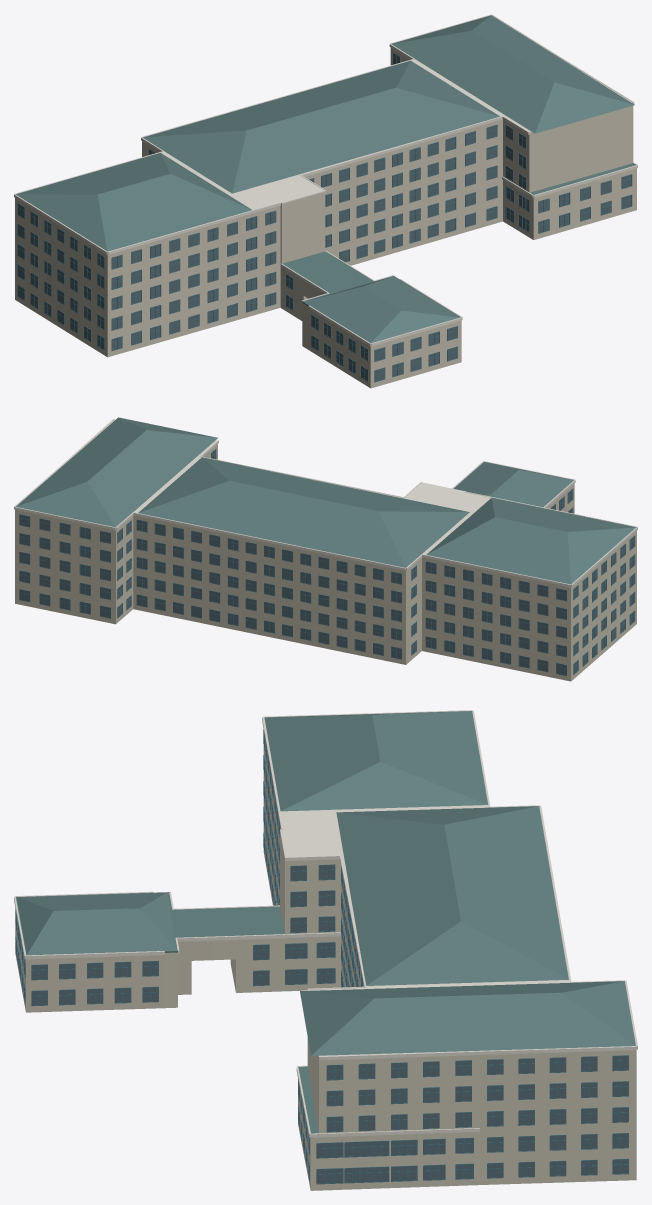
The model's file is SEU_building_patch_v08.glb.
The picture shows the model from 3 angles, top to bottom: view 1: azimuth 30°, elevation 25°; view 2: azimuth 150°, elevation 25°; view 3: azimuth 270°, elevation 25°; orthographic projection. The views are drawn at different scales.
Parts seen in each view (by area): view 1: SEU_B_OSMWAY_300020042_V08__main_upper, SEU_B_OSMWAY_300020042_V08__main_middle_hip, SEU_B_OSMWAY_300020042_V08__main_glass, SEU_B_OSMWAY_300020042_V08__main_east_hip, SEU_B_OSMWAY_300020042_V08__main_west_hip, SEU_B_OSMWAY_300020042_V08__main_ground, SEU_B_OSMWAY_300020042_V08__annex_ground, SEU_B_OSMWAY_300020042_V08__annex_south_hip_roof, SEU_B_OSMWAY_300020042_V08__main_window_mullions, SEU_B_OSMWAY_300020042_V08__main_window_frames, SEU_B_OSMWAY_300020042_V08__annex_glass, SEU_B_OSMWAY_300020042_V08__annex_upper (+6 smaller); view 2: SEU_B_OSMWAY_300020042_V08__main_upper, SEU_B_OSMWAY_300020042_V08__main_glass, SEU_B_OSMWAY_300020042_V08__main_middle_hip, SEU_B_OSMWAY_300020042_V08__main_ground, SEU_B_OSMWAY_300020042_V08__main_east_hip, SEU_B_OSMWAY_300020042_V08__main_west_hip, SEU_B_OSMWAY_300020042_V08__main_window_mullions, SEU_B_OSMWAY_300020042_V08__main_window_frames, SEU_B_OSMWAY_300020042_V08__main_eave_edge, SEU_B_OSMWAY_300020042_V08__annex_south_hip_roof, SEU_B_OSMWAY_300020042_V08__main_roof; view 3: SEU_B_OSMWAY_300020042_V08__main_middle_hip, SEU_B_OSMWAY_300020042_V08__main_upper, SEU_B_OSMWAY_300020042_V08__main_east_hip, SEU_B_OSMWAY_300020042_V08__main_west_hip, SEU_B_OSMWAY_300020042_V08__main_glass, SEU_B_OSMWAY_300020042_V08__annex_ground, SEU_B_OSMWAY_300020042_V08__main_ground, SEU_B_OSMWAY_300020042_V08__annex_south_hip_roof, SEU_B_OSMWAY_300020042_V08__annex_glass, SEU_B_OSMWAY_300020042_V08__annex_upper, SEU_B_OSMWAY_300020042_V08__main_window_mullions, SEU_B_OSMWAY_300020042_V08__main_roof (+6 smaller).
Part boxes in pixels (x1=…): SEU_B_OSMWAY_300020042_V08__main_upper: x1=15, y1=48, x2=633, y2=330; SEU_B_OSMWAY_300020042_V08__main_middle_hip: x1=143, y1=60, x2=499, y2=193; SEU_B_OSMWAY_300020042_V08__main_glass: x1=18, y1=53, x2=525, y2=350; SEU_B_OSMWAY_300020042_V08__main_east_hip: x1=391, y1=15, x2=634, y2=133; SEU_B_OSMWAY_300020042_V08__main_west_hip: x1=16, y1=153, x2=251, y2=251; SEU_B_OSMWAY_300020042_V08__main_ground: x1=15, y1=195, x2=507, y2=357; SEU_B_OSMWAY_300020042_V08__annex_ground: x1=281, y1=183, x2=636, y2=388; SEU_B_OSMWAY_300020042_V08__annex_south_hip_roof: x1=304, y1=276, x2=459, y2=342; SEU_B_OSMWAY_300020042_V08__main_window_mullions: x1=17, y1=53, x2=526, y2=350; SEU_B_OSMWAY_300020042_V08__main_window_frames: x1=17, y1=52, x2=526, y2=350; SEU_B_OSMWAY_300020042_V08__annex_glass: x1=286, y1=175, x2=631, y2=381; SEU_B_OSMWAY_300020042_V08__annex_upper: x1=281, y1=168, x2=636, y2=361; SEU_B_OSMWAY_300020042_V08__main_upper: x1=15, y1=444, x2=636, y2=656; SEU_B_OSMWAY_300020042_V08__main_glass: x1=19, y1=449, x2=634, y2=675; SEU_B_OSMWAY_300020042_V08__main_middle_hip: x1=138, y1=457, x2=469, y2=567; SEU_B_OSMWAY_300020042_V08__main_ground: x1=15, y1=579, x2=636, y2=681; SEU_B_OSMWAY_300020042_V08__main_east_hip: x1=16, y1=417, x2=217, y2=527; SEU_B_OSMWAY_300020042_V08__main_west_hip: x1=426, y1=498, x2=635, y2=584; SEU_B_OSMWAY_300020042_V08__main_window_mullions: x1=19, y1=449, x2=635, y2=675; SEU_B_OSMWAY_300020042_V08__main_window_frames: x1=19, y1=449, x2=635, y2=675; SEU_B_OSMWAY_300020042_V08__main_eave_edge: x1=14, y1=419, x2=637, y2=587; SEU_B_OSMWAY_300020042_V08__annex_south_hip_roof: x1=454, y1=462, x2=573, y2=507; SEU_B_OSMWAY_300020042_V08__main_roof: x1=16, y1=419, x2=614, y2=554; SEU_B_OSMWAY_300020042_V08__main_middle_hip: x1=336, y1=806, x2=568, y2=985; SEU_B_OSMWAY_300020042_V08__main_upper: x1=263, y1=740, x2=636, y2=1155; SEU_B_OSMWAY_300020042_V08__main_east_hip: x1=300, y1=981, x2=635, y2=1055; SEU_B_OSMWAY_300020042_V08__main_west_hip: x1=264, y1=711, x2=487, y2=811; SEU_B_OSMWAY_300020042_V08__main_glass: x1=264, y1=735, x2=628, y2=1183; SEU_B_OSMWAY_300020042_V08__annex_ground: x1=15, y1=925, x2=479, y2=1190; SEU_B_OSMWAY_300020042_V08__main_ground: x1=263, y1=823, x2=636, y2=1190; SEU_B_OSMWAY_300020042_V08__annex_south_hip_roof: x1=17, y1=892, x2=176, y2=955; SEU_B_OSMWAY_300020042_V08__annex_glass: x1=15, y1=912, x2=473, y2=1183; SEU_B_OSMWAY_300020042_V08__annex_upper: x1=17, y1=918, x2=479, y2=1157; SEU_B_OSMWAY_300020042_V08__main_window_mullions: x1=263, y1=729, x2=628, y2=1183; SEU_B_OSMWAY_300020042_V08__main_roof: x1=264, y1=717, x2=635, y2=1056.
Size of the model in its own units: 104 by 21.82 by 78.66.
